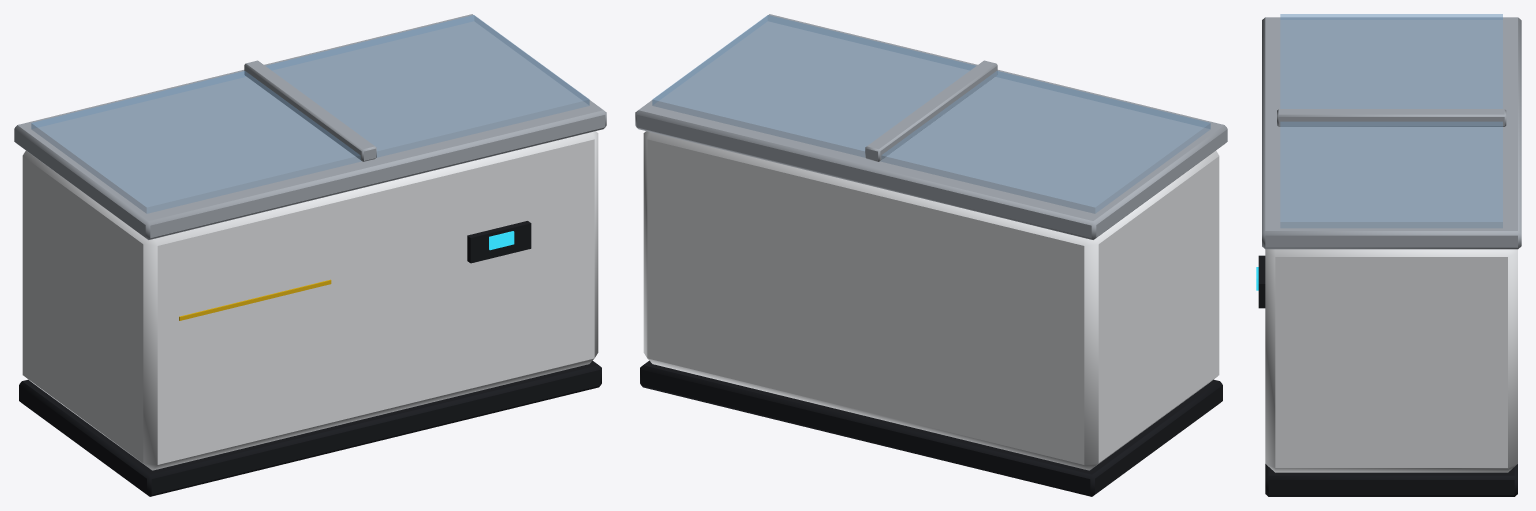
Rendered from galley_chest_freezer.glb.
The picture shows the model from 3 angles, left to right: view 1: azimuth 30°, elevation 25°; view 2: azimuth 150°, elevation 25°; view 3: azimuth 270°, elevation 25°; orthographic projection. The views are drawn at different scales.
Visible parts, largest first — view 1: galley_chest_freezer; view 2: galley_chest_freezer; view 3: galley_chest_freezer.
Boxes of the visible parts, bbox=[...] form: galley_chest_freezer: bbox=[14, 14, 606, 496]; galley_chest_freezer: bbox=[635, 14, 1227, 496]; galley_chest_freezer: bbox=[1256, 14, 1521, 496].
Size of the model in its own units: 1.52 by 0.915 by 0.786.
